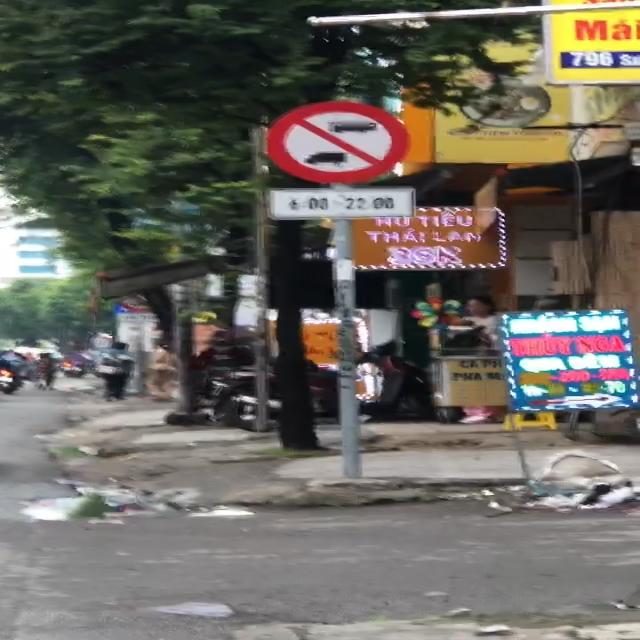Bien bao cam xe oto khach va xe oto tai: (255, 92, 422, 190)
